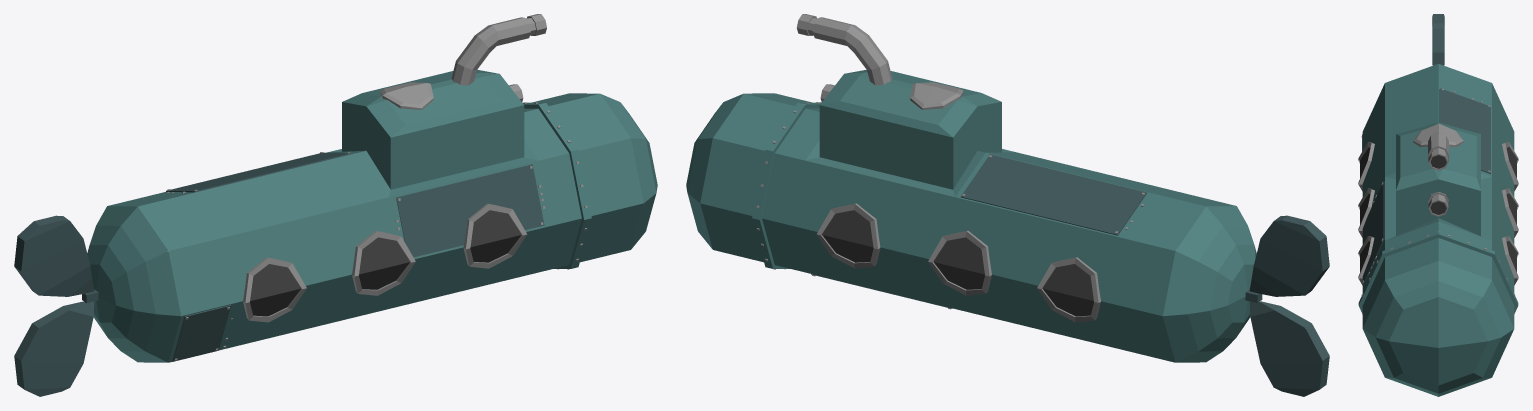
Rendered from BlueSubmarine.fbx.
3 renders of one model, left to right at view 1: azimuth 30°, elevation 25°; view 2: azimuth 150°, elevation 25°; view 3: azimuth 270°, elevation 25°, orthographic. The views are drawn at different scales.
Parts seen in each view (by area): view 1: BlueSubmarine, BlueSubmarinePropeller, BlueSubmarinePeriscope; view 2: BlueSubmarine, BlueSubmarinePropeller, BlueSubmarinePeriscope; view 3: BlueSubmarine, BlueSubmarinePeriscope, BlueSubmarinePropeller.
Boxes of the visible parts, <box> form: BlueSubmarine: <box>87,70,657,362</box>; BlueSubmarinePropeller: <box>14,215,98,396</box>; BlueSubmarinePeriscope: <box>451,14,546,85</box>; BlueSubmarine: <box>686,69,1256,362</box>; BlueSubmarinePropeller: <box>1245,215,1329,396</box>; BlueSubmarinePeriscope: <box>796,14,892,85</box>; BlueSubmarine: <box>1358,64,1518,396</box>; BlueSubmarinePeriscope: <box>1428,132,1448,170</box>; BlueSubmarinePropeller: <box>1432,14,1444,65</box>.
Bounding box in the file's own units: 2324 × 914 × 589.
